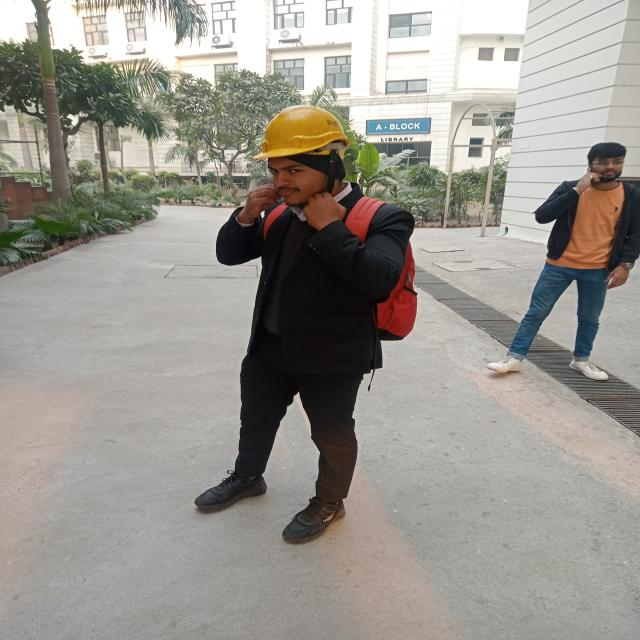no jacket: (206, 99, 398, 538)
unsafe: (489, 143, 640, 381)
